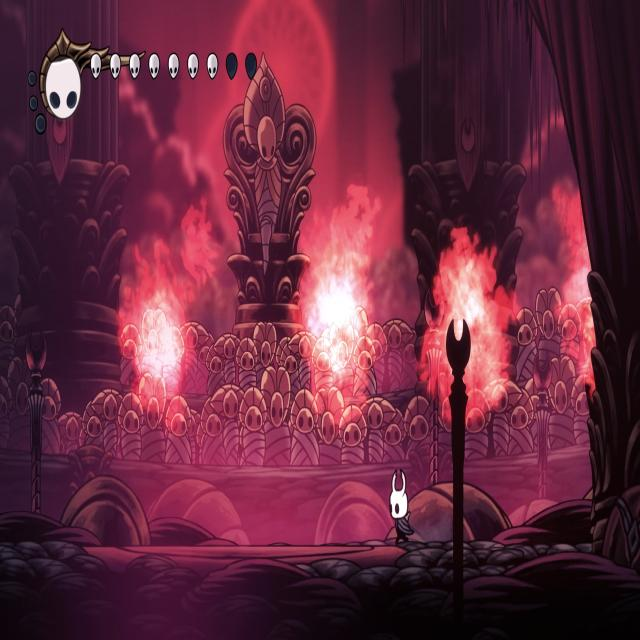Fireball: (433, 260, 501, 400), (306, 263, 367, 376), (138, 300, 184, 394)
Player: (386, 463, 414, 548)
